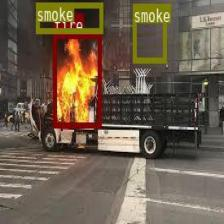fire: (53, 32, 100, 128)
smoke: (36, 2, 102, 32), (132, 4, 166, 62)
